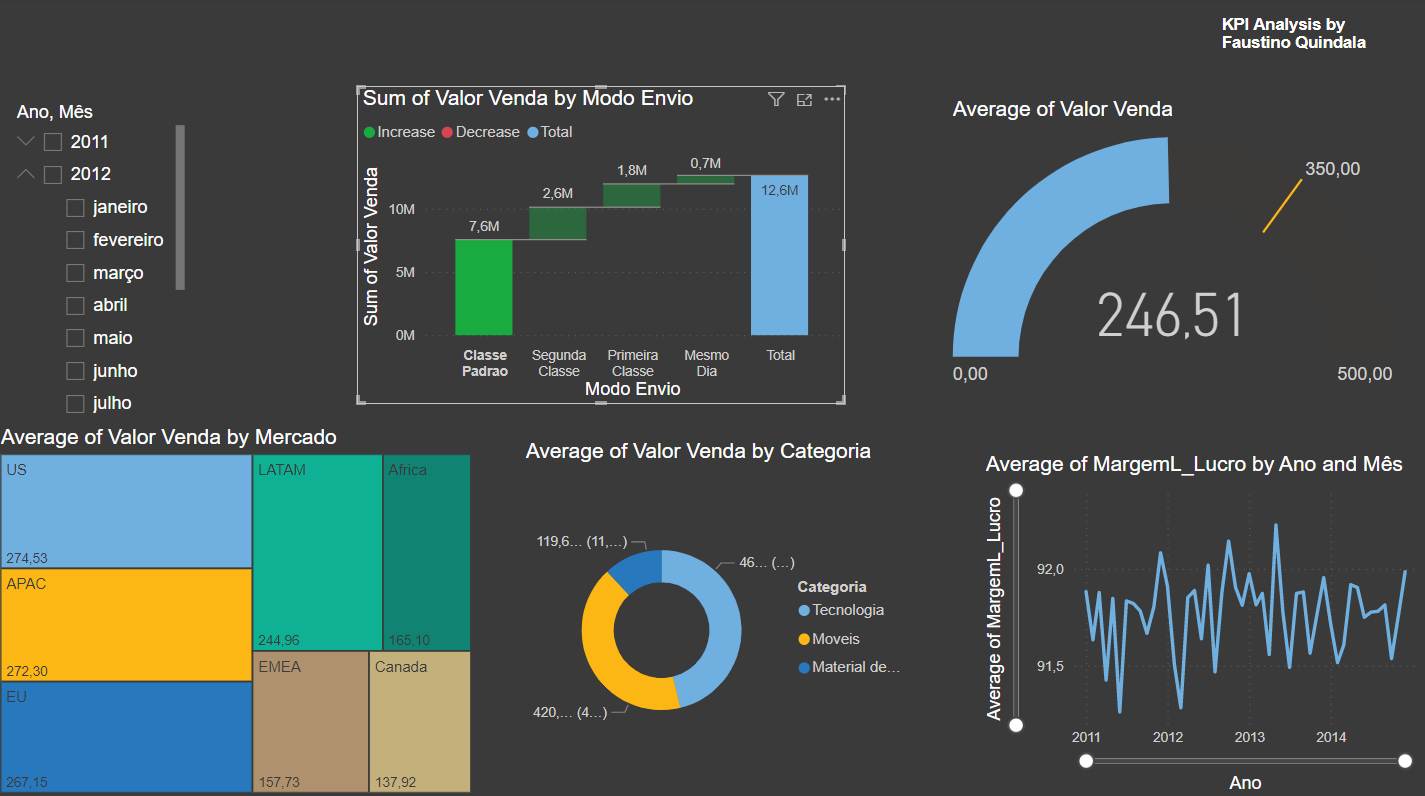

The page's visual inventory and layout, read from the dashboard file:
{"tool":"powerbi","page":{"name":"Page 1","canvas":[1280,720],"ordinal":0},"visuals":[{"type":"waterfallChart","fields":{"Category":["Pedidos.Modo Envio"],"Y":["Sum(Vendas.Valor Venda)"]},"box":[331.7,77.8,432.8,282.1],"z":0},{"type":"treemap","fields":{"Group":["Clientes.Mercado"],"Values":["Avg(Vendas.Valor Venda)"]},"box":[10.7,378.4,427,330.7],"z":1000},{"type":"gauge","fields":{"Y":["Avg(Vendas.Valor Venda)"]},"box":[855,87.5,399.8,272.3],"z":2000},{"type":"slicer","fields":{"Values":["Pedidos.Data Pedido.Variation.Hierarquia de datas.Ano","Pedidos.Data Pedido.Variation.Hierarquia de datas.Mês"]},"box":[16.5,87.5,167.3,290.8],"z":3000},{"type":"donutChart","fields":{"Category":["Produtos.Categoria"],"Y":["Avg(Vendas.Valor Venda)"]},"box":[476.6,391,355,318.1],"z":4000},{"type":"lineChart","fields":{"Category":["Pedidos.Data Pedido.Variation.Hierarquia de datas.Ano","Pedidos.Data Pedido.Variation.Hierarquia de datas.Mês"],"Y":["Avg(Vendas.MargemL_Lucro)"]},"box":[884.1,402.7,395.9,306.4],"z":5000},{"type":"textbox","box":[1093.4,10.7,175.5,60.9],"z":6000}]}

Visuals, with their boxes in screenshot pixels (x1, y1, x2, y2), scaled from the page's 1280x720 canvas onto the 1425x796 screenshot:
waterfallChart - Pedidos.Modo Envio x Sum(Vendas.Valor Venda): [x1=369, y1=86, x2=851, y2=398]
treemap - Clientes.Mercado x Avg(Vendas.Valor Venda): [x1=12, y1=418, x2=487, y2=784]
gauge - Avg(Vendas.Valor Venda): [x1=952, y1=97, x2=1397, y2=398]
slicer - Pedidos.Data Pedido.Variation.Hierarquia de datas.Ano x Pedidos.Data Pedido.Variation.Hierarquia de datas.Mês: [x1=18, y1=97, x2=205, y2=418]
donutChart - Produtos.Categoria x Avg(Vendas.Valor Venda): [x1=531, y1=432, x2=926, y2=784]
lineChart - Pedidos.Data Pedido.Variation.Hierarquia de datas.Ano x Pedidos.Data Pedido.Variation.Hierarquia de datas.Mês: [x1=984, y1=445, x2=1424, y2=784]
textbox: [x1=1217, y1=12, x2=1413, y2=79]
